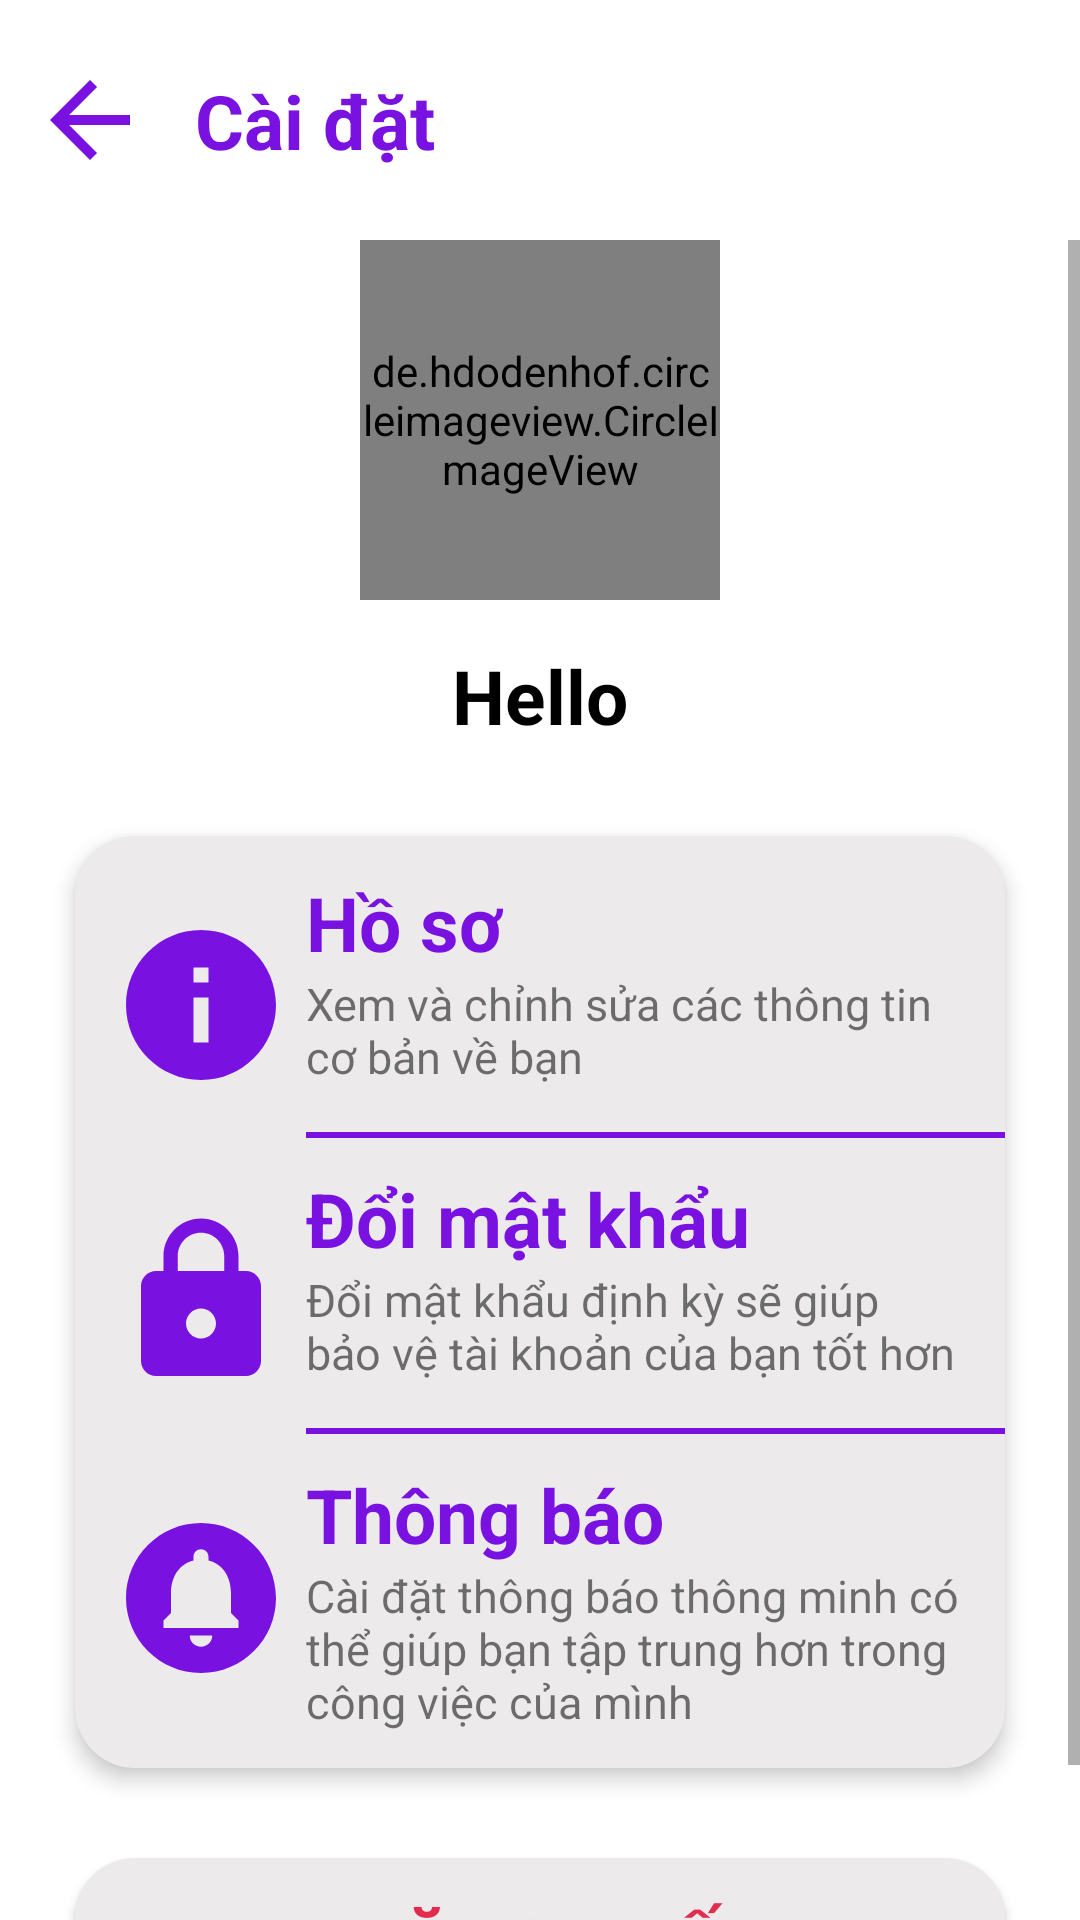

Screen size 1080*1920. Icon name, then its center in pixels as [x,y]:
arrow back: [90,120]
circle notifications: [201,1598]
info: [201,1005]
lock: [201,1297]
